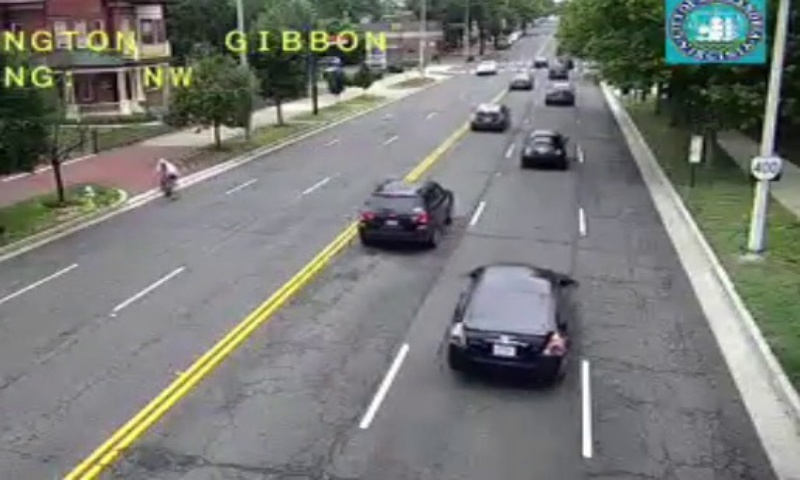car: (451, 264, 569, 381), (357, 179, 451, 242), (521, 130, 568, 163), (470, 102, 507, 131)
